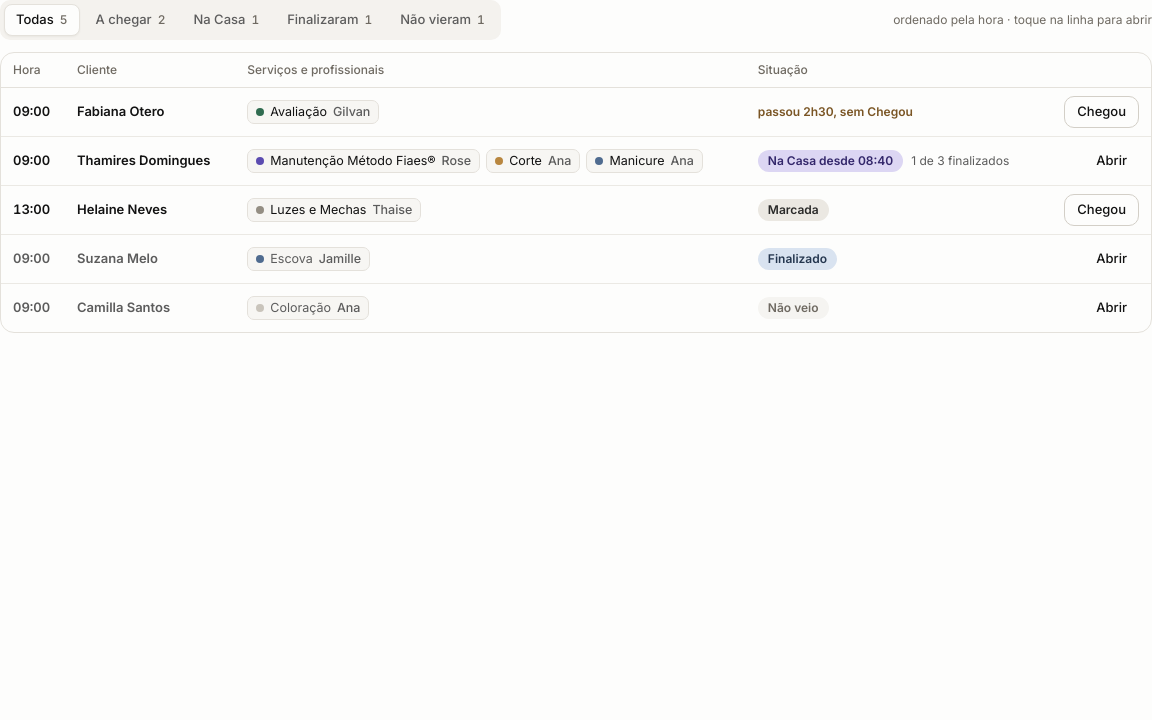
Test: tocar na linha (ou Enter) abre a visita que já existe
The image size is (1152, 720).
Click the row with test id "dia-linha". click: coordinates (576, 210)
box: [1,186,1151,234]
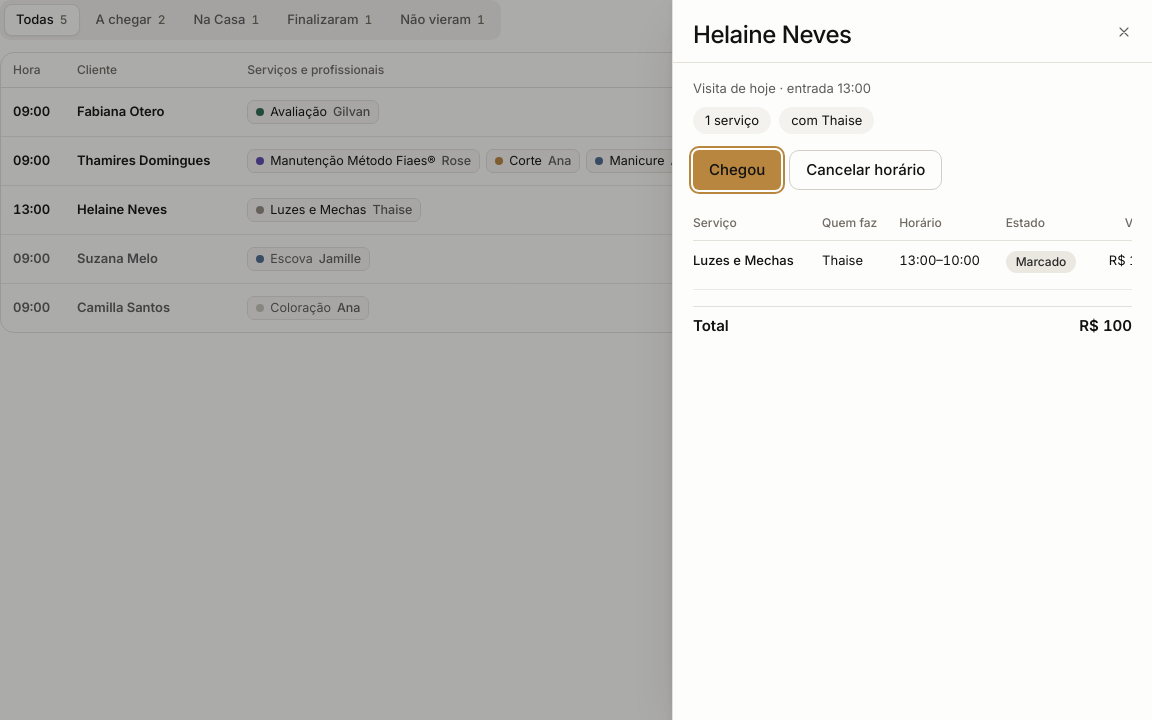
Expected: the dialog "Helaine Neves" is shown, [672,0,1151,719]
